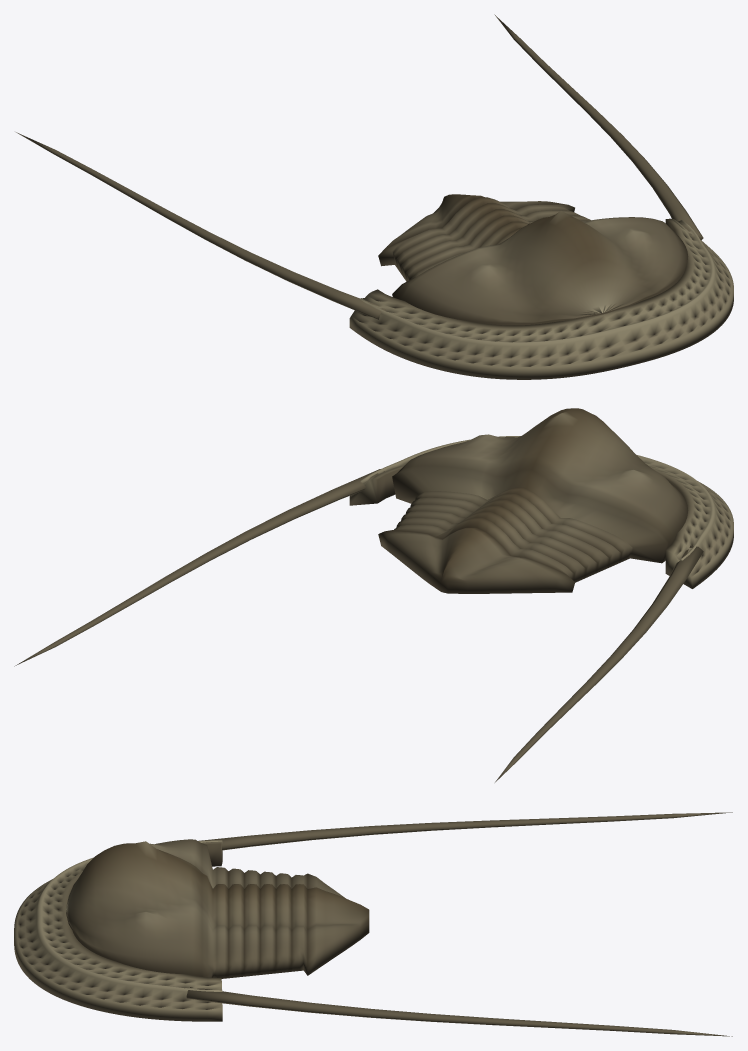
The model's file is TrinucleusSeticornis.fbx.
3 views of the same model, one above another, from view 1: azimuth 30°, elevation 25°; view 2: azimuth 150°, elevation 25°; view 3: azimuth 270°, elevation 25° (orthographic). The views are drawn at different scales.
Parts seen in each view (by area): view 1: TrinucleusSeticornis; view 2: TrinucleusSeticornis; view 3: TrinucleusSeticornis.
Boxes of the visible parts, box(x1,y1,x2,y2) form: TrinucleusSeticornis: box(16, 14, 733, 379); TrinucleusSeticornis: box(14, 408, 733, 782); TrinucleusSeticornis: box(14, 812, 732, 1036).
Size of the model in its own units: 1.12 by 0.2338 by 1.52.
